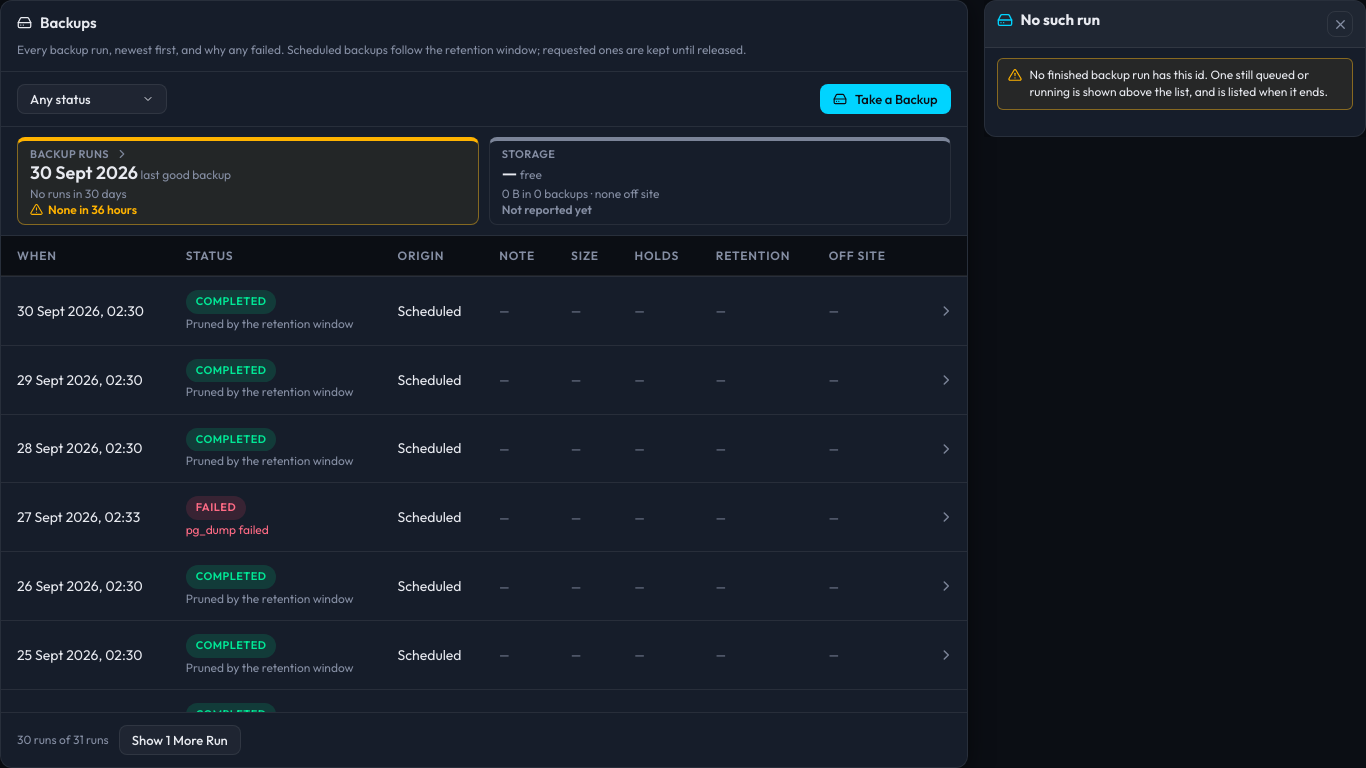
Test case: a link to a run nobody has › says so where the drawer would be, and closes
Expected: the element with class "context-panel-open" is shown, [984,0,1365,137]
Expected: the list named "Warnings" shows "No finished backup run has this id. One still queued or running is shown above the list, and is listed when it ends.", [1030,67,1328,99]
Click the button named "Close details". click: [1340, 24]
box: [1327,11,1353,37]
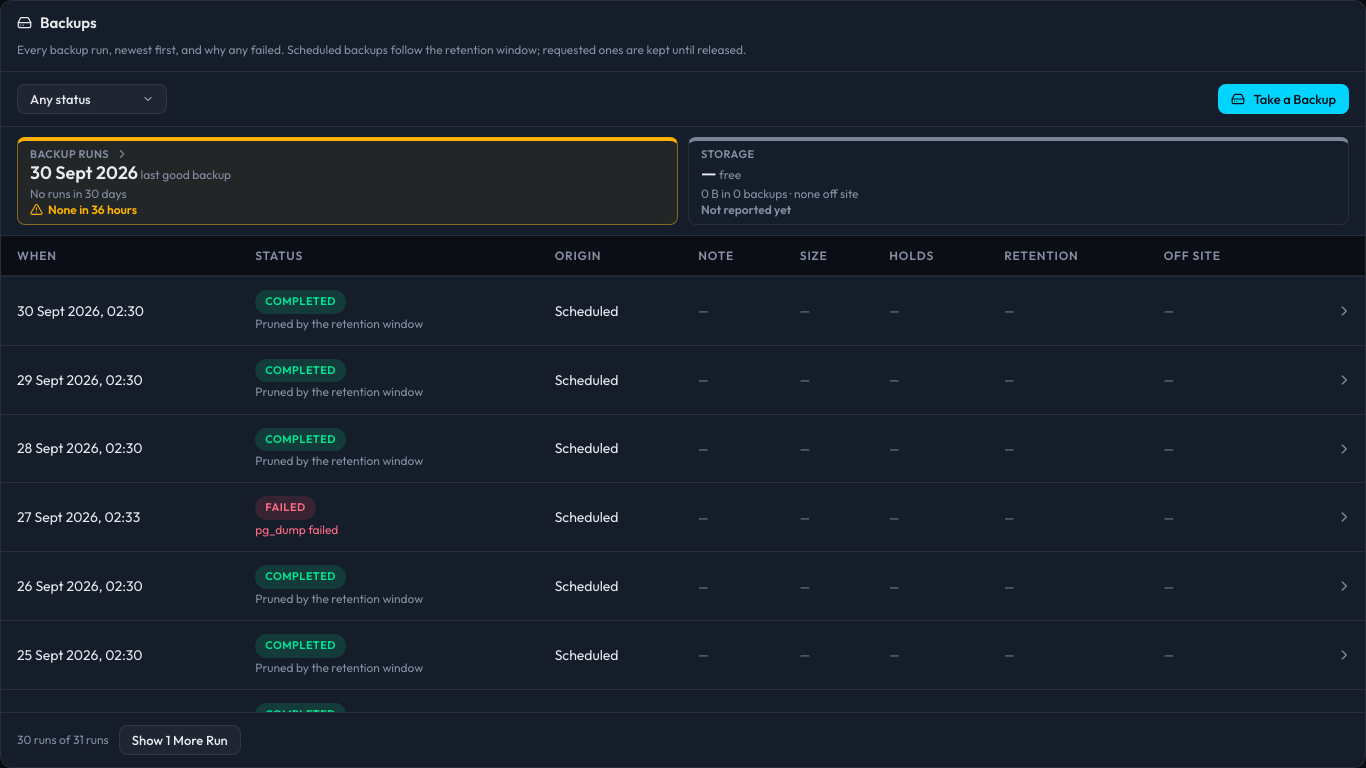
Now the element with class "context-panel-open" is gone
